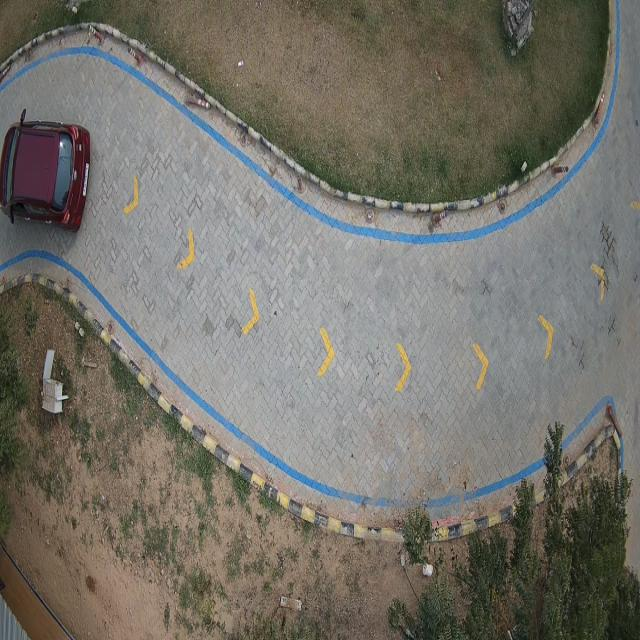car: (0, 123, 92, 234)
